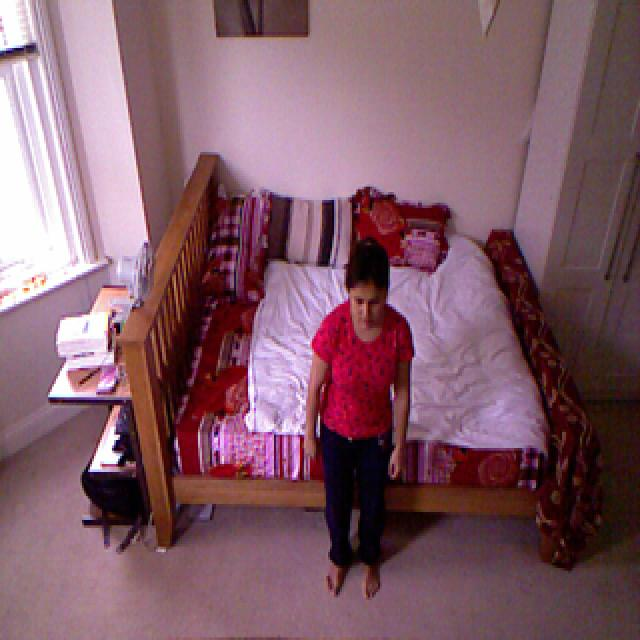standing: (312, 242, 408, 603)
